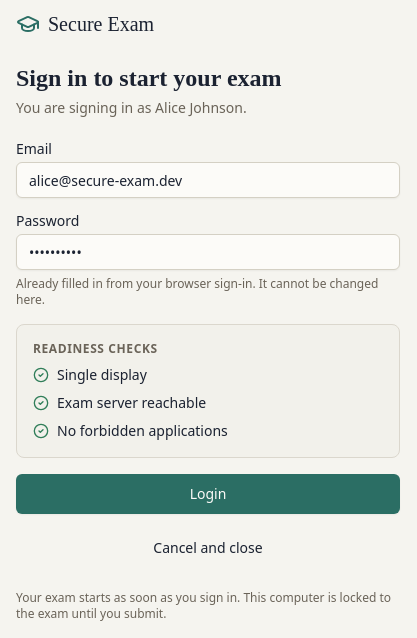
Scenario: LaunchPage › does not redeem the token or start an attempt when native security cannot be enabled
Click the button "Login": (208, 494) [16,474,400,514]
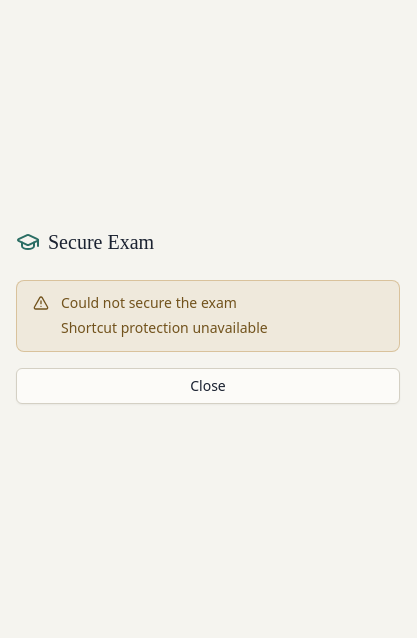
Expected: the text "Shortcut protection unavailable" is shown, [61,317,268,339]
